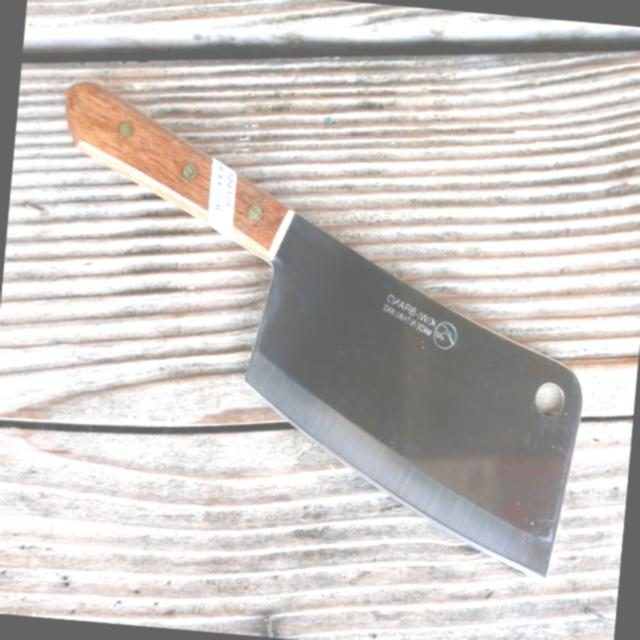cleaver: (26, 80, 606, 581)
